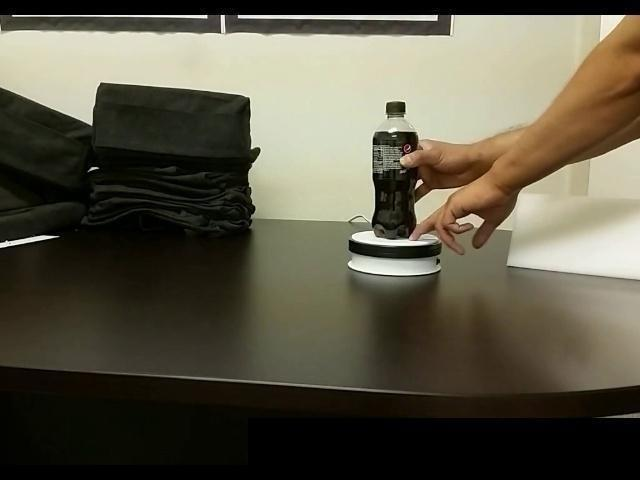bottle-plastic: (368, 96, 421, 243)
